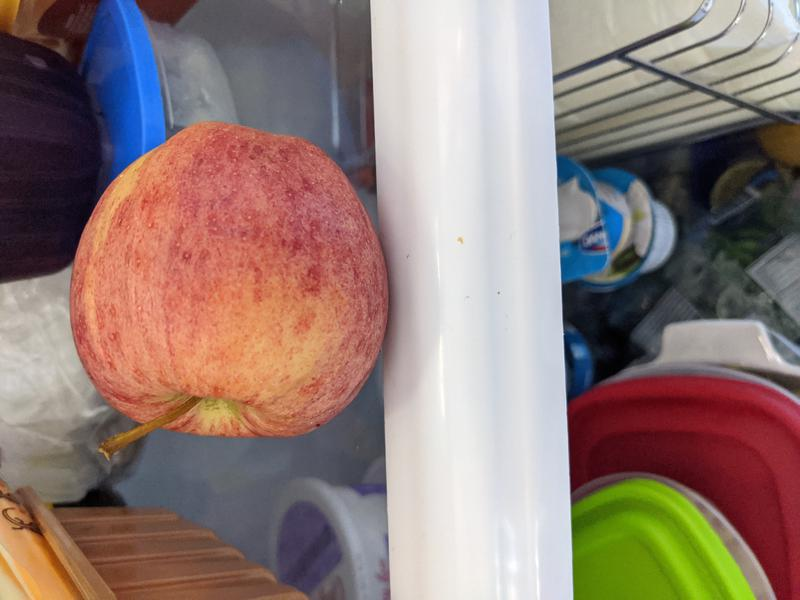red apple: (66, 121, 391, 443)
